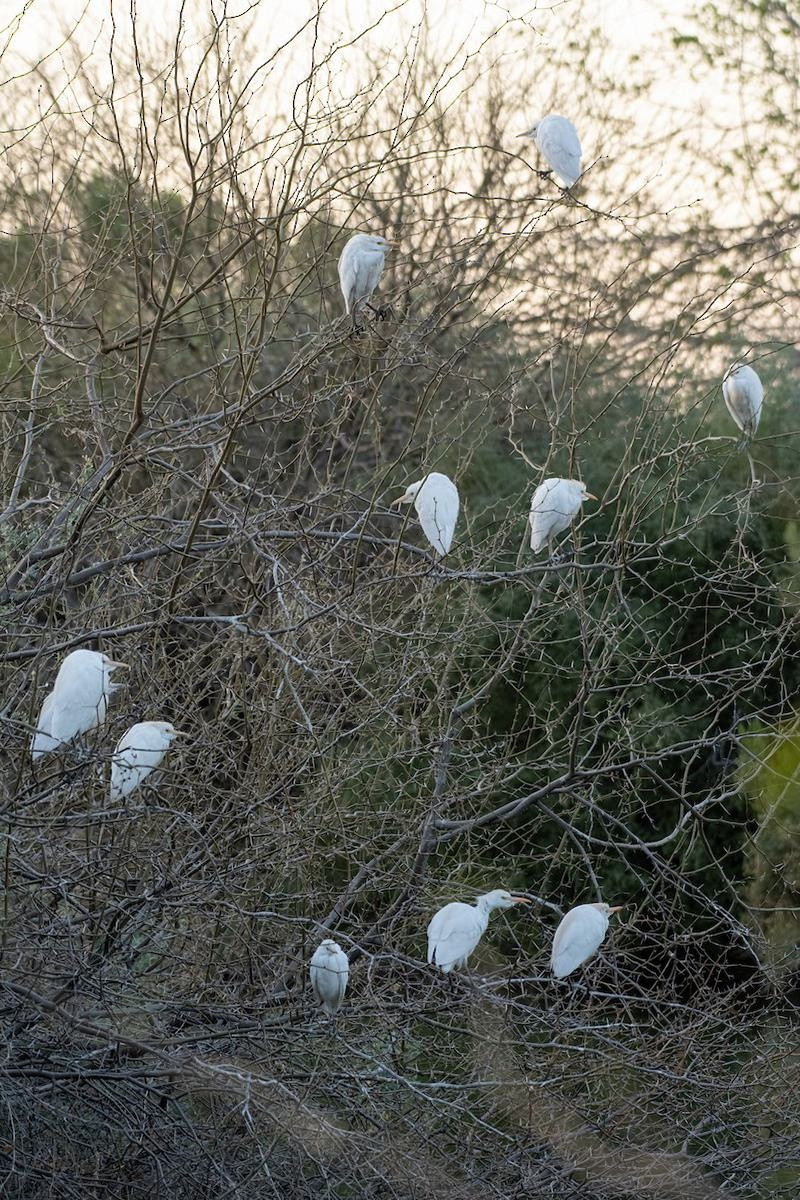egret: (420, 875, 527, 999), (41, 635, 142, 763), (320, 225, 423, 344), (374, 473, 481, 567), (549, 883, 632, 989), (517, 108, 600, 206), (514, 470, 593, 572), (114, 704, 196, 802), (710, 351, 777, 440), (301, 934, 362, 1018)
